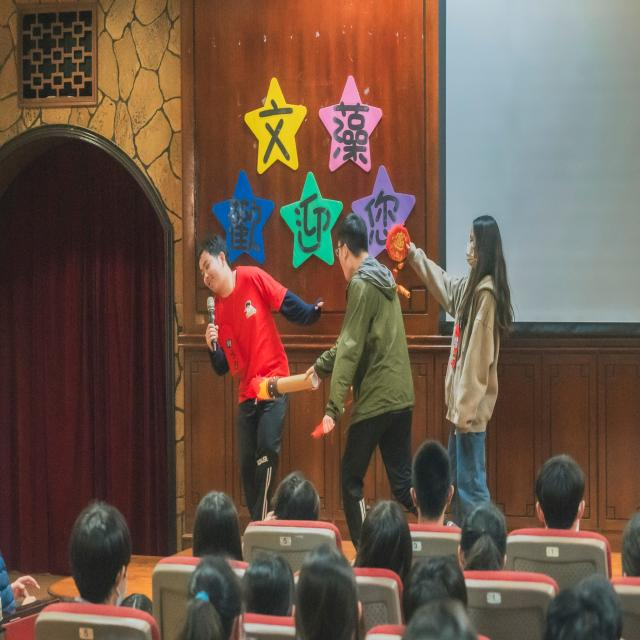stand: (304, 210, 414, 546), (188, 233, 301, 514), (442, 202, 514, 528)
